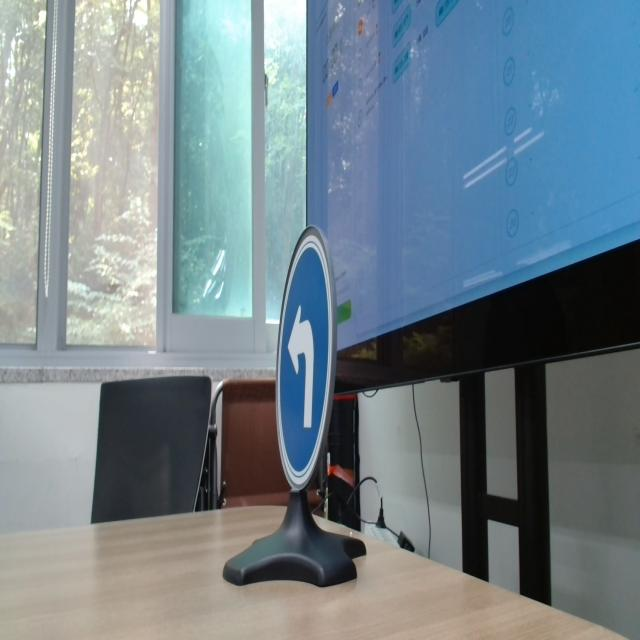left_direction: (272, 217, 340, 498)
